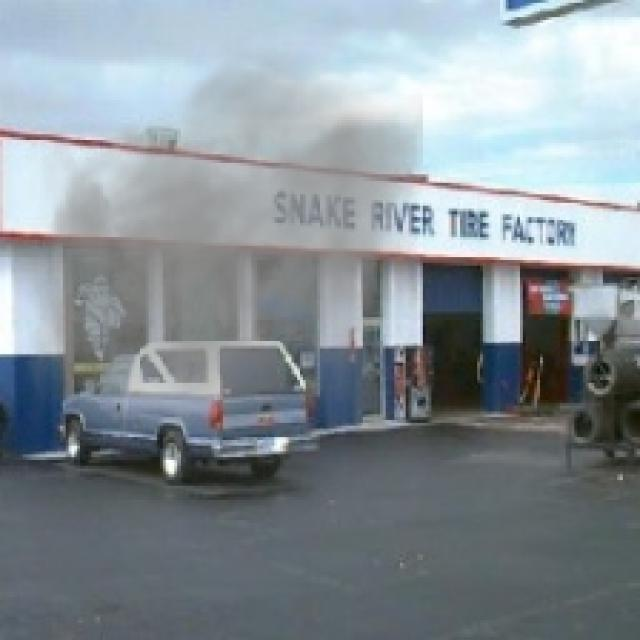smoke: (26, 34, 423, 434)
